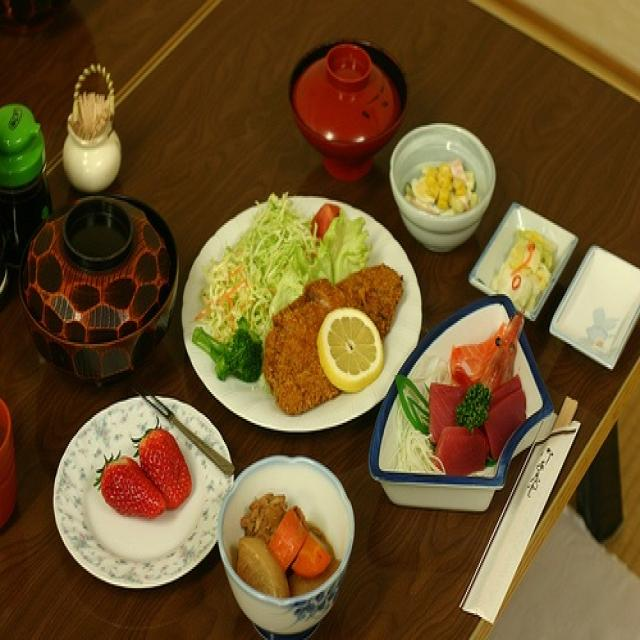diningtable: (3, 2, 636, 632)
